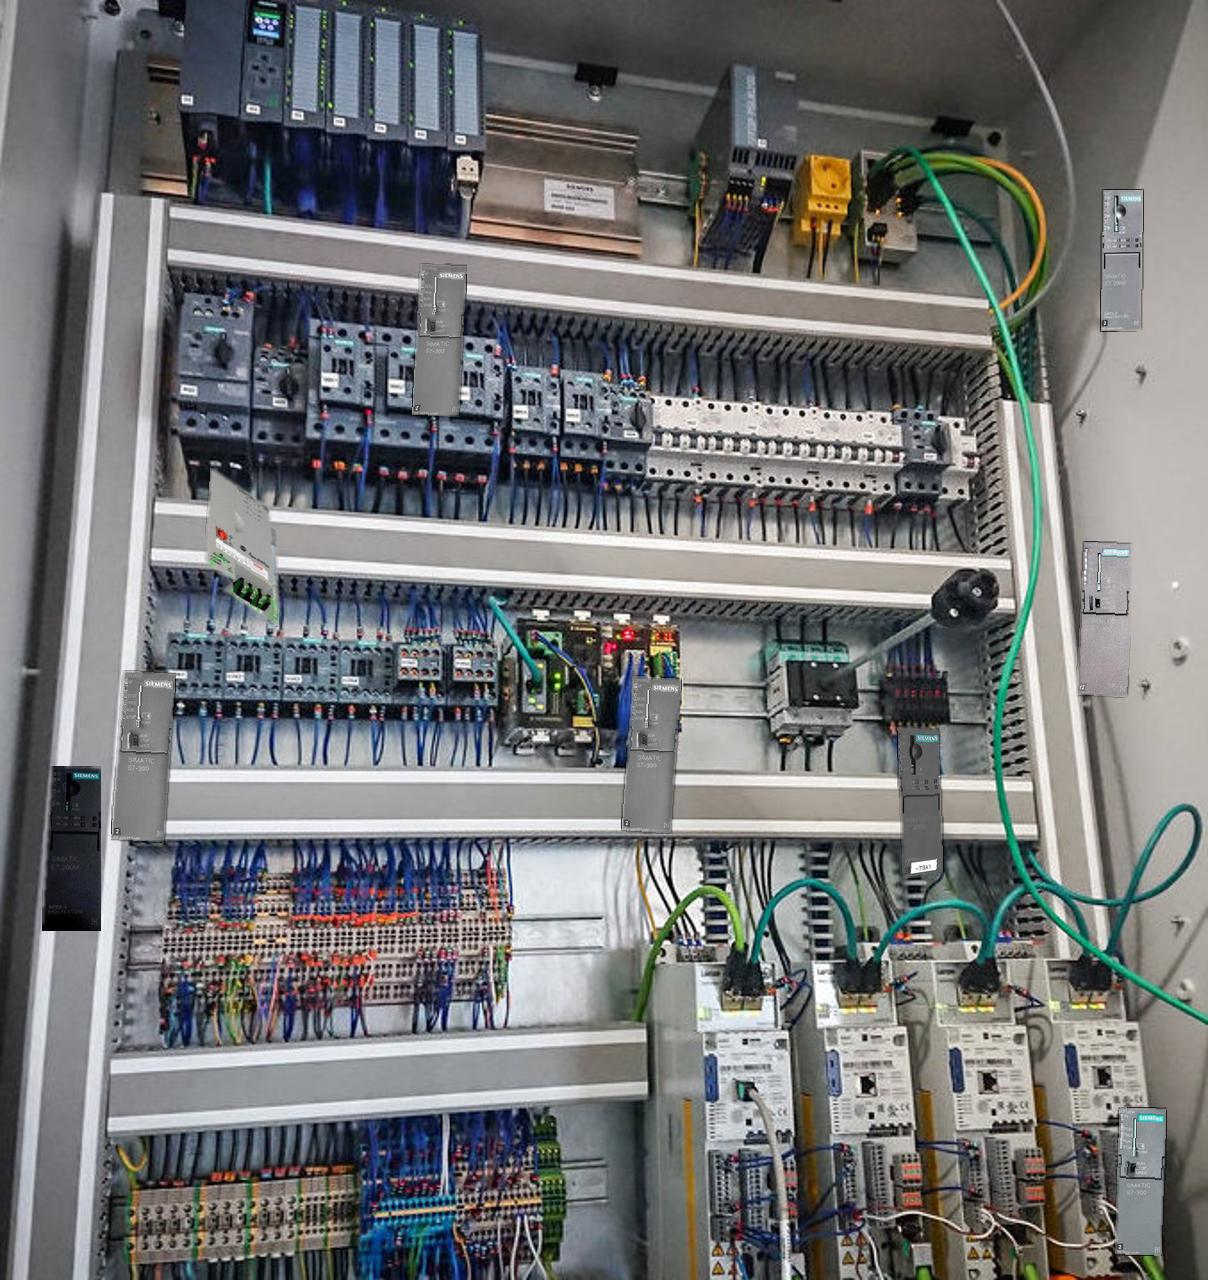AllenBradley: (205, 467, 278, 626)
Siemens: (111, 671, 175, 840), (622, 677, 680, 833), (1077, 542, 1130, 695), (412, 265, 465, 415), (1116, 1107, 1166, 1255)
